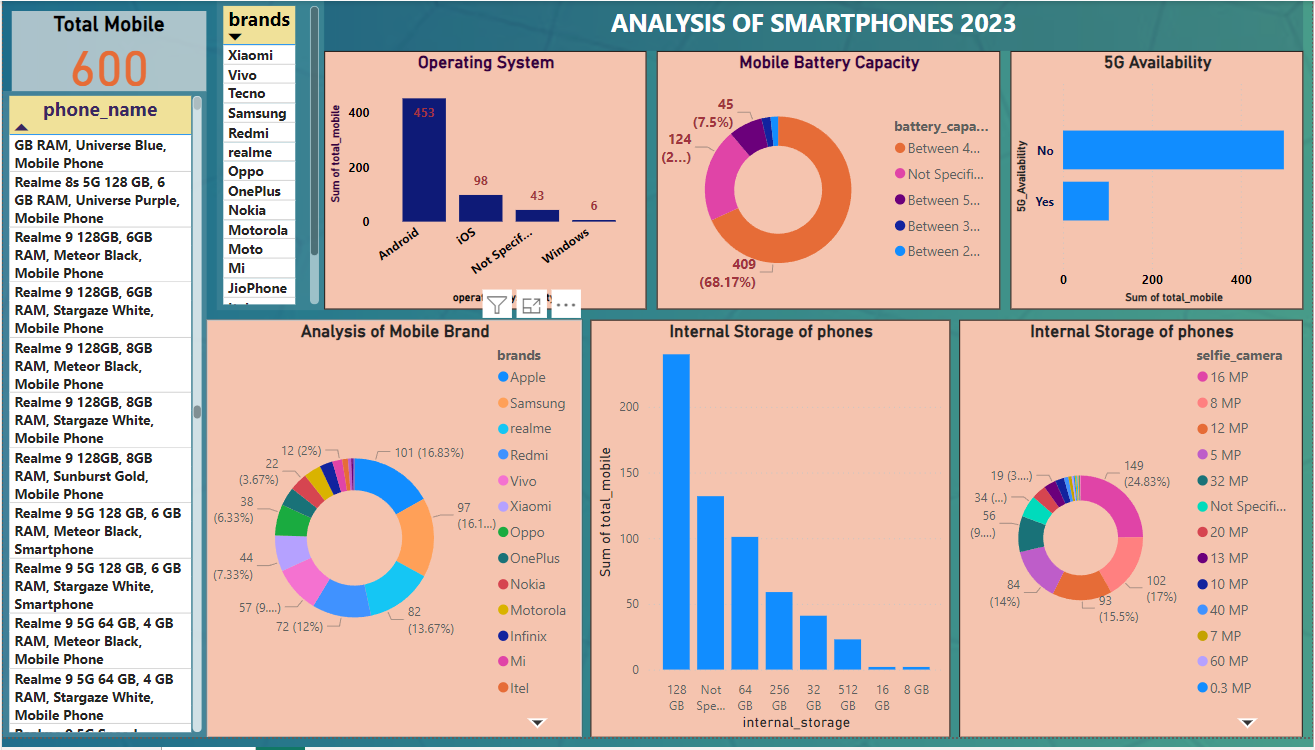

This screenshot's page, from the dashboard's own definition file:
{"tool":"powerbi","page":{"name":"Page 1","canvas":[1280,720],"ordinal":0},"visuals":[{"type":"card","title":"Total Mobile","fields":{"Values":["Sum(public mobileanalysis_data.total_mobile)"]},"box":[8.6,9.8,190.8,78.3],"z":0},{"type":"tableEx","title":"Phone Name","fields":{"Values":["public mobileanalysis_data.phone_name"]},"box":[0,88,199.3,632.2],"z":1000},{"type":"tableEx","title":"Phone Name","fields":{"Values":["public mobileanalysis_data.phone_name"]},"box":[0,87.8,199.3,632.2],"z":2000},{"type":"tableEx","title":"Phone Name","fields":{"Values":["public mobileanalysis_data.brands"]},"box":[209.1,0,105.2,302],"z":3000},{"type":"clusteredColumnChart","title":"Operating System","fields":{"Category":["public mobileanalysis_data.operating_system_type"],"Y":["Sum(public mobileanalysis_data.total_mobile)"]},"box":[314.3,48.9,315.5,253.1],"z":3001},{"type":"donutChart","title":"Mobile Battery Capacity","fields":{"Category":["public mobileanalysis_data.battery_capacity_range"],"Y":["Sum(public mobileanalysis_data.total_mobile)"]},"box":[639.5,48.9,336.3,253.1],"z":3002},{"type":"clusteredBarChart","title":"5G Availability","fields":{"Category":["public mobileanalysis_data.5G_Availability"],"Y":["Sum(public mobileanalysis_data.total_mobile)"]},"box":[985.6,48.9,286.1,253.1],"z":3003},{"type":"donutChart","title":"Analysis of Mobile Brand","fields":{"Category":["public mobileanalysis_data.brands"],"Y":["Sum(public mobileanalysis_data.total_mobile)"]},"box":[199.3,311.8,366.8,408.4],"z":3004},{"type":"columnChart","title":"Internal Storage of phones","fields":{"Category":["public mobileanalysis_data.internal_storage"],"Y":["Sum(public mobileanalysis_data.total_mobile)"]},"box":[574.7,311.8,352.2,408.4],"z":3005},{"type":"donutChart","title":"Internal Storage of phones","fields":{"Category":["public mobileanalysis_data.selfie_camera"],"Y":["Sum(public mobileanalysis_data.total_mobile)"]},"box":[935.5,311.8,336.3,408.4],"z":3006},{"type":"textbox","box":[314.3,0,957.5,48.9],"z":3007}]}

Visuals, with their boxes in screenshot pixels (x1, y1, x2, y2), scaled from the page's 1280x720 canvas onto the 1315x750 screenshot:
"Total Mobile" card: 9,10,205,92
"Phone Name" tableEx: 0,92,205,749
"Phone Name" tableEx: 0,91,205,749
"Phone Name" tableEx: 215,0,323,315
"Operating System" clusteredColumnChart: 323,51,647,315
"Mobile Battery Capacity" donutChart: 657,51,1002,315
"5G Availability" clusteredBarChart: 1013,51,1306,315
"Analysis of Mobile Brand" donutChart: 205,325,582,749
"Internal Storage of phones" columnChart: 590,325,952,749
"Internal Storage of phones" donutChart: 961,325,1307,749
textbox: 323,0,1307,51
